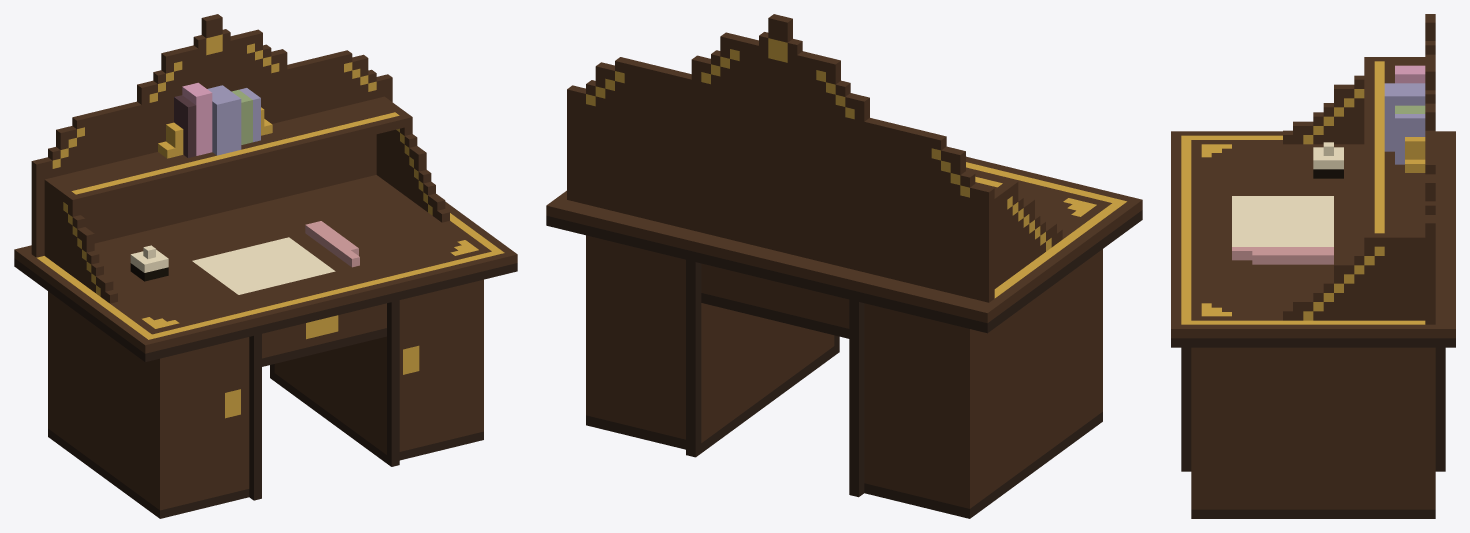
File: ggj desk 2.obj
3 views of the same model, side by side, from view 1: azimuth 30°, elevation 25°; view 2: azimuth 150°, elevation 25°; view 3: azimuth 270°, elevation 25° (orthographic). The views are drawn at different scales.
Bounding box in the file's own units: 4.6 × 4.5 × 2.8.
Materials: 1 (1 with a texture image).
